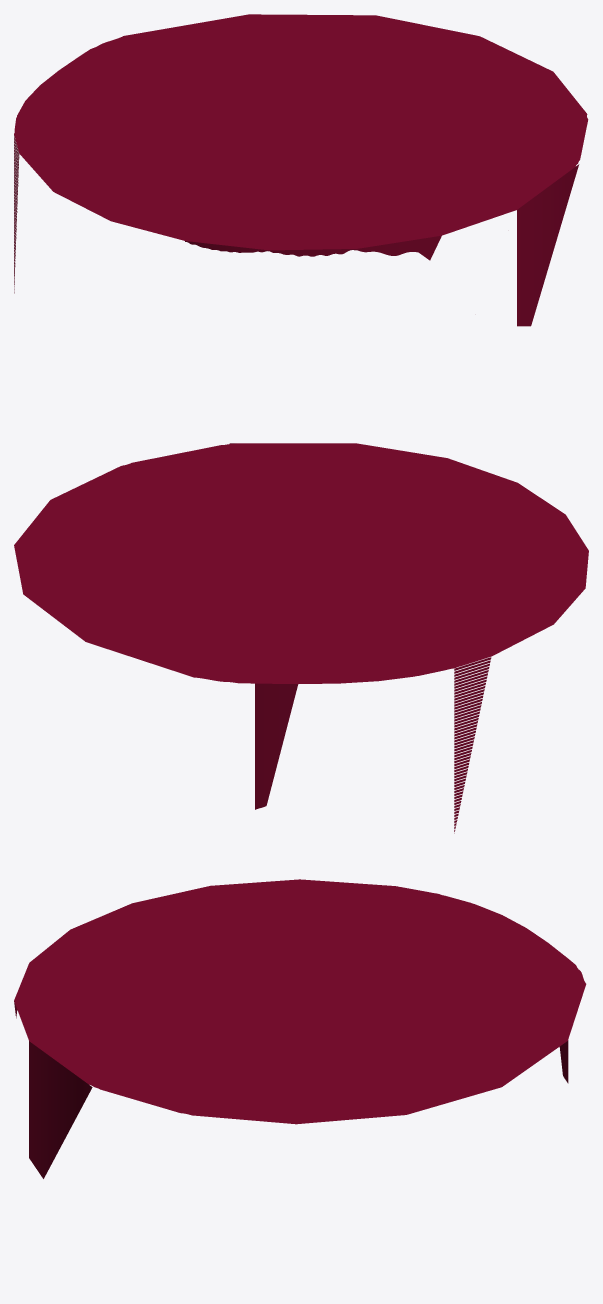
Rendered from ball.FBX.
The picture shows the model from 3 angles, top to bottom: view 1: azimuth 30°, elevation 25°; view 2: azimuth 150°, elevation 25°; view 3: azimuth 270°, elevation 25°; orthographic projection.
Parts seen in each view (by area): view 1: Shape1; view 2: Shape1; view 3: Shape1.
Part boxes in pixels (x1,y1,x2,y2): Shape1: (14,14,588,326); Shape1: (14,443,588,833); Shape1: (14,879,586,1178).
Bounding box in the file's own units: 3.18 × 1 × 3.15.
